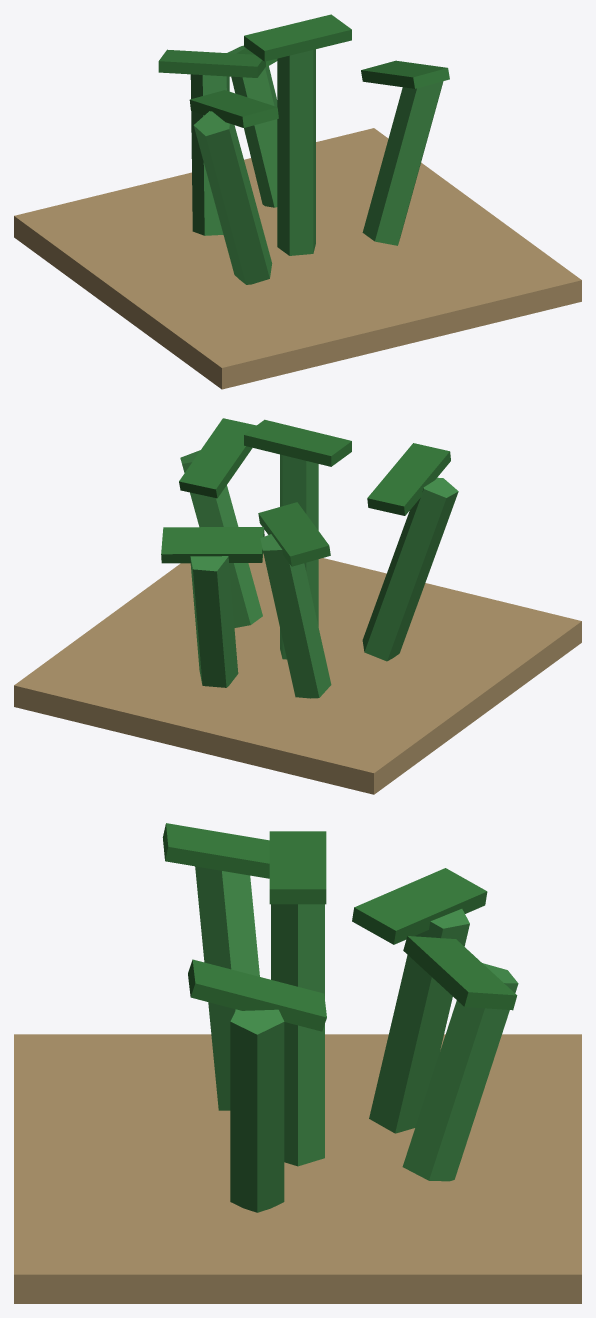
File: herb_patch.obj
The picture shows the model from 3 angles, top to bottom: view 1: azimuth 30°, elevation 25°; view 2: azimuth 150°, elevation 25°; view 3: azimuth 270°, elevation 25°; orthographic projection. The views are drawn at different scales.
Parts seen in each view (by area): view 1: part_0, part_1, part_5, part_3, part_7, part_2, part_9, part_10, part_6, part_4; view 2: part_0, part_5, part_9, part_7, part_8, part_4, part_6, part_3, part_2, part_10, part_1; view 3: part_0, part_3, part_1, part_7, part_9, part_5, part_10, part_4, part_8, part_2, part_6.
Part boxes in pixels (x1,y1,x2,y2): part_0: (14,128,581,389); part_1: (277,49,315,255); part_5: (193,111,272,284); part_3: (362,81,443,245); part_7: (227,45,277,207); part_2: (244,14,351,61); part_9: (190,74,229,235); part_10: (158,49,265,77); part_6: (189,90,278,127); part_4: (361,60,449,88); part_0: (14,553,581,794); part_5: (362,477,458,661); part_9: (260,534,331,698); part_7: (190,556,238,687); part_8: (161,527,264,563); part_4: (179,418,256,498); part_6: (367,443,450,515); part_3: (180,450,262,627); part_2: (244,419,351,466); part_10: (258,502,330,566); part_1: (280,454,318,659); part_0: (14,1034,581,1303); part_3: (230,1009,284,1212); part_1: (271,904,324,1166); part_7: (402,963,518,1181); part_9: (369,909,469,1133); part_5: (195,866,259,1110); part_10: (352,868,487,944); part_4: (188,959,326,1031); part_8: (403,936,517,1010); part_2: (269,831,326,904); part_6: (162,823,269,878).
Bounding box in the file's own units: 0.7 × 0.44 × 0.7.
